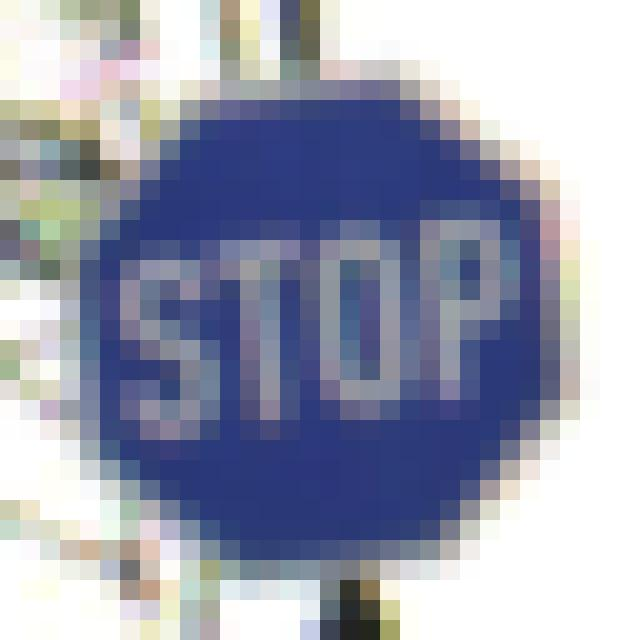STOP: (100, 96, 554, 574)
